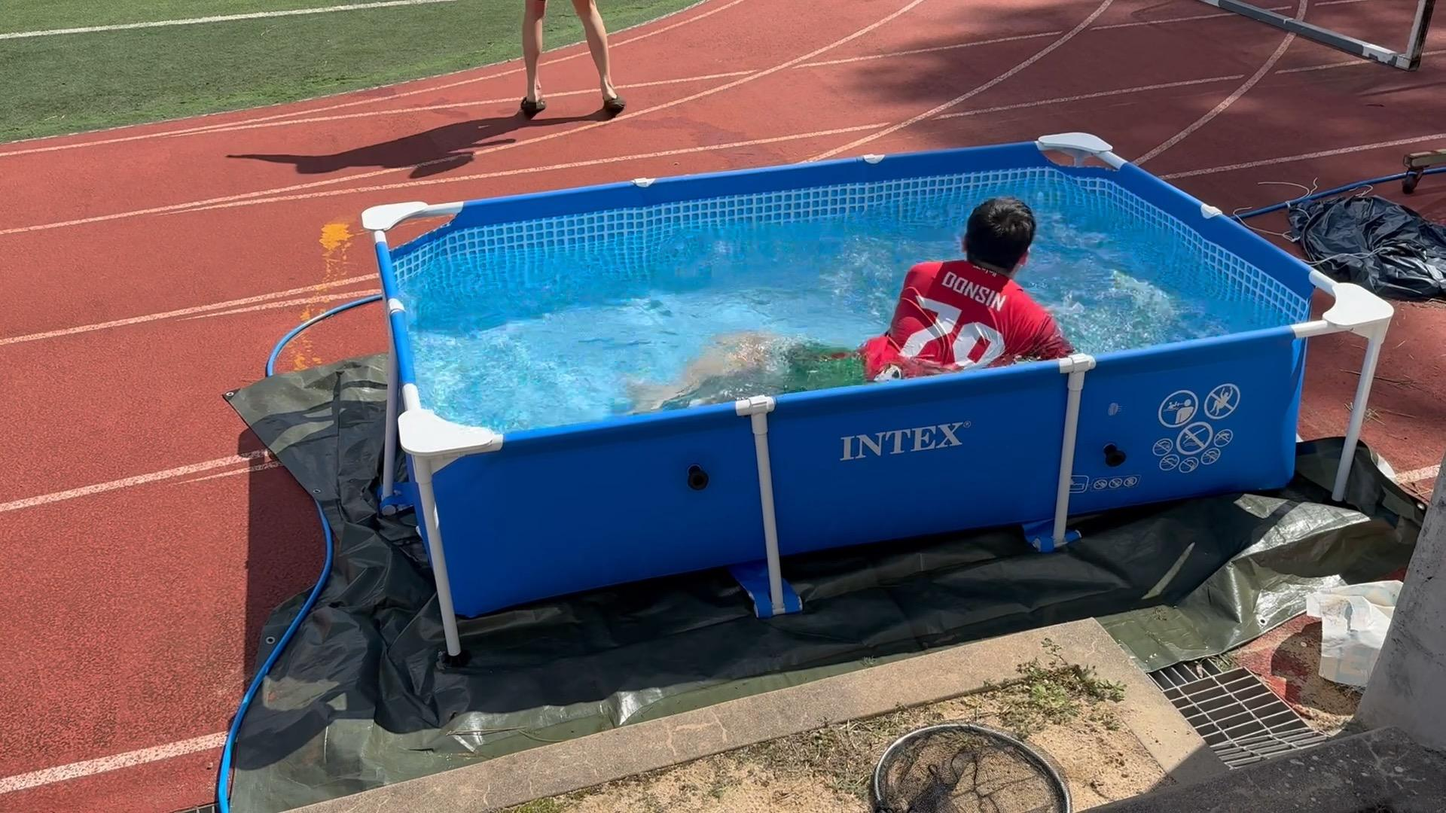Swimming: (603, 182, 1125, 416)
